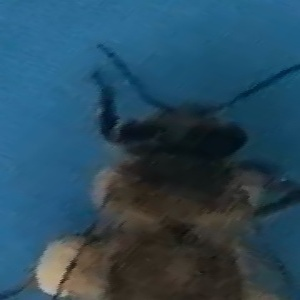bee: (25, 43, 297, 299)
